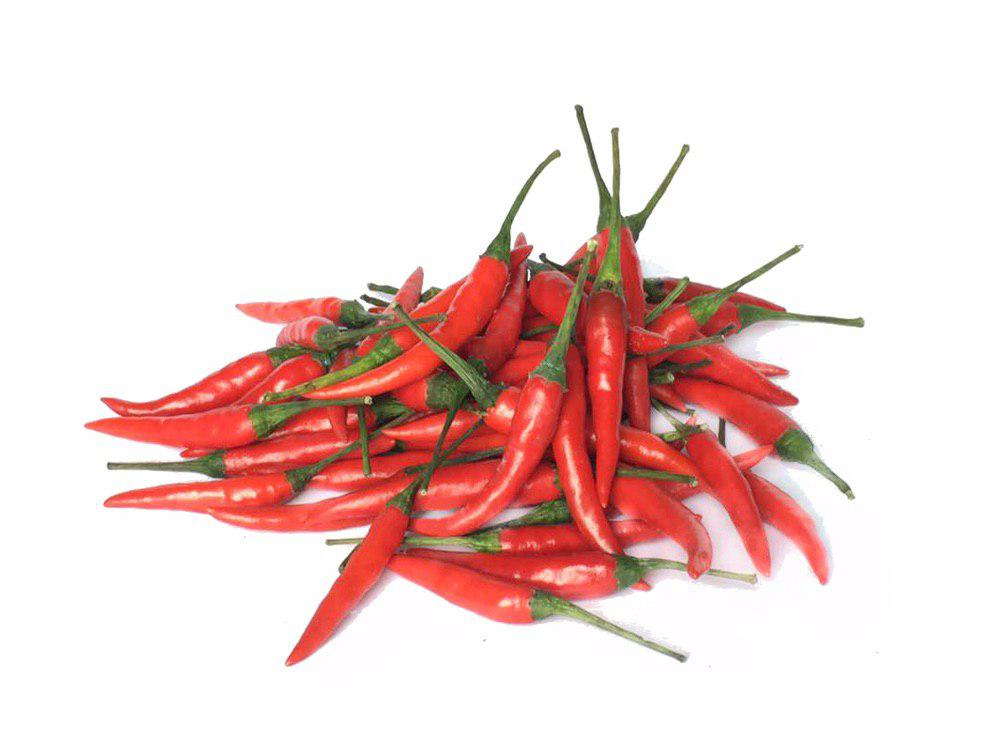lada merah: (309, 245, 515, 424), (427, 373, 582, 540), (285, 497, 424, 681), (675, 411, 779, 581), (595, 448, 718, 591), (380, 546, 563, 631), (71, 392, 310, 457), (70, 345, 294, 409), (102, 459, 310, 525), (576, 268, 630, 513), (736, 463, 841, 589), (430, 545, 649, 588), (218, 295, 388, 337)
